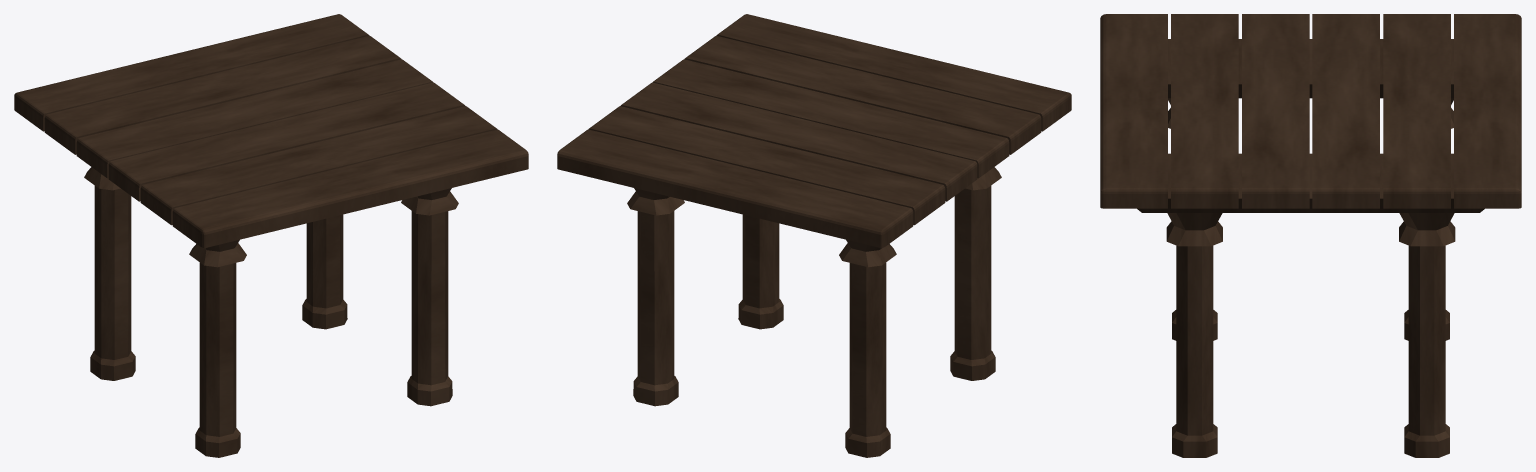
Rendered from woodstand02-2.fbx.
3 renders of one model, left to right at view 1: azimuth 30°, elevation 25°; view 2: azimuth 150°, elevation 25°; view 3: azimuth 270°, elevation 25°, orthographic. The views are drawn at different scales.
Parts seen in each view (by area): view 1: wooden stand.004; view 2: wooden stand.004; view 3: wooden stand.004.
Boxes of the visible parts, x1=… form: wooden stand.004: x1=14, y1=14, x2=528, y2=457; wooden stand.004: x1=557, y1=14, x2=1071, y2=457; wooden stand.004: x1=1100, y1=14, x2=1521, y2=457.
Bounding box in the file's own units: 97.51 × 74.76 × 98.36.
